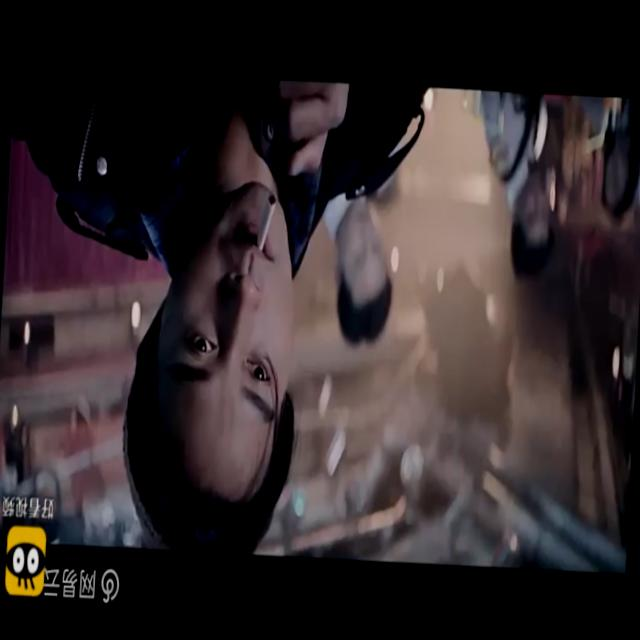cigarette: (256, 190, 278, 256)
